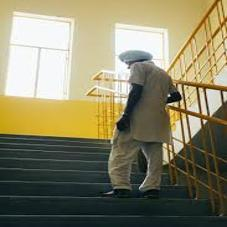Bench: (10, 145, 131, 214)
